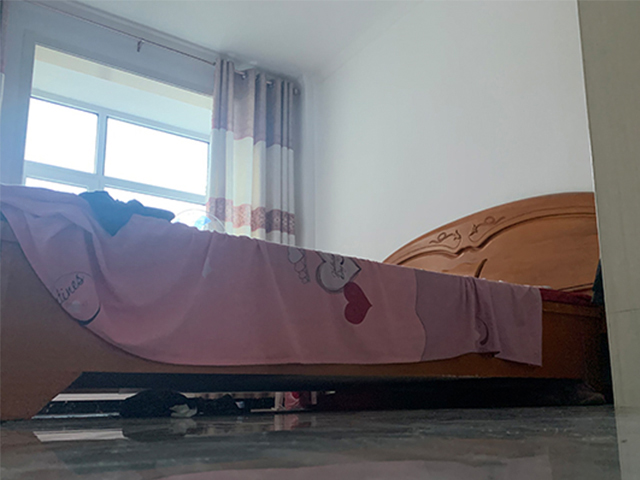bed: (1, 183, 614, 422)
curtain: (212, 52, 301, 249)
